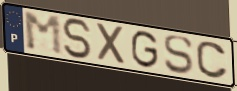C: (194, 40, 230, 81)
G: (130, 29, 160, 71)
M: (22, 11, 66, 58)
S: (60, 17, 95, 61), (162, 34, 195, 76)
X: (95, 21, 128, 67)
